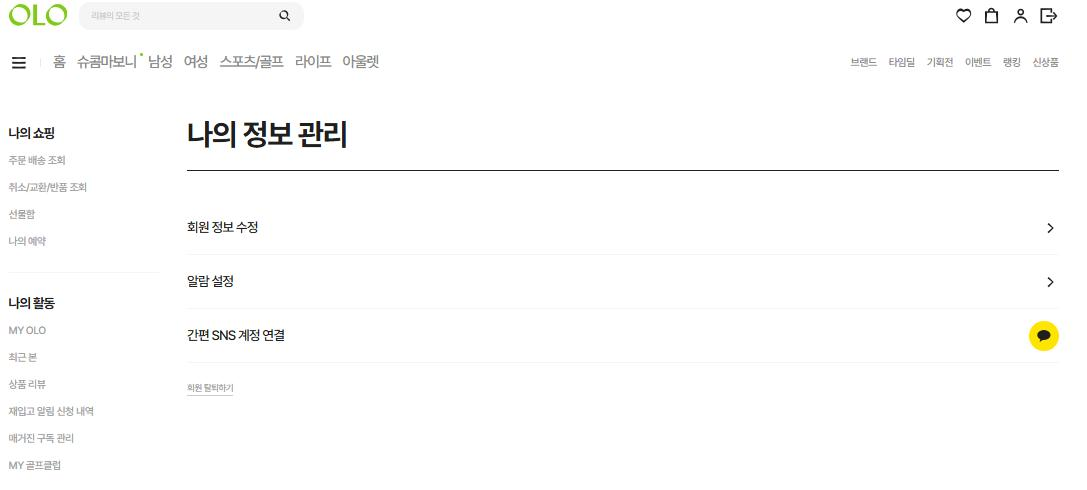button: (183, 261, 1061, 303), (181, 318, 1061, 358), (186, 207, 1062, 246), (7, 401, 98, 424), (184, 374, 242, 404), (7, 180, 94, 198), (7, 430, 78, 452), (74, 52, 144, 73), (7, 148, 73, 169), (219, 52, 285, 71), (7, 457, 64, 477), (341, 51, 386, 76), (7, 320, 56, 340), (923, 48, 958, 72), (961, 50, 997, 73), (846, 49, 881, 72), (885, 48, 920, 71), (1030, 50, 1065, 73), (293, 52, 335, 71), (6, 376, 52, 393), (7, 206, 45, 226), (7, 233, 52, 249), (182, 53, 211, 75), (980, 4, 1005, 29), (1008, 4, 1033, 29), (4, 348, 43, 364), (1000, 50, 1027, 73), (1036, 4, 1060, 29), (952, 4, 976, 28), (9, 51, 33, 75), (46, 51, 71, 74), (147, 54, 178, 71)
input_field: (78, 2, 306, 30)
